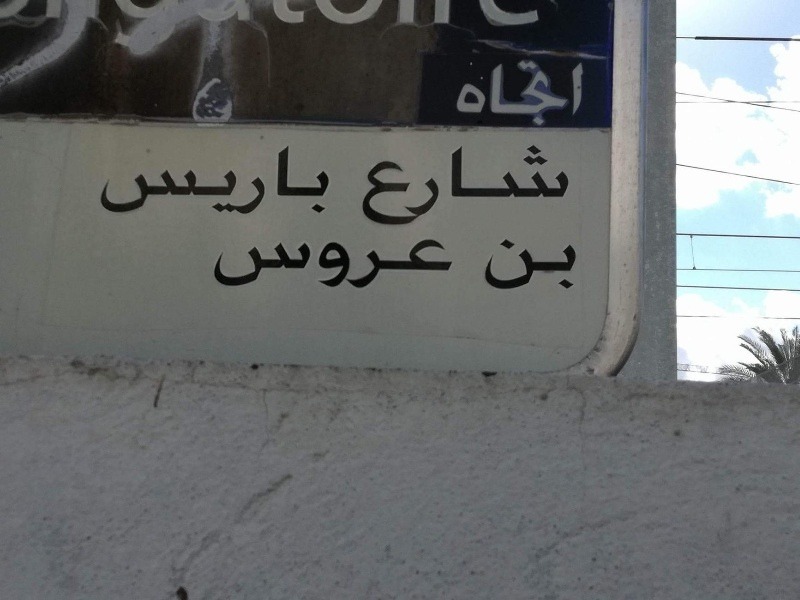text: (369, 144, 384, 232), (385, 144, 400, 232), (401, 144, 416, 232), (417, 144, 432, 232), (433, 144, 448, 232), (449, 144, 464, 232), (465, 144, 480, 232), (481, 144, 496, 232), (497, 144, 512, 232), (513, 144, 528, 232), (529, 144, 544, 232), (545, 144, 560, 232), (113, 134, 128, 214), (129, 134, 144, 214), (145, 134, 160, 214), (161, 134, 176, 214), (177, 134, 192, 214), (193, 134, 208, 214), (209, 134, 224, 214), (225, 134, 240, 214), (241, 134, 256, 214), (257, 134, 272, 214), (273, 134, 288, 214), (289, 134, 304, 214), (305, 134, 320, 214), (465, 55, 480, 130), (481, 55, 496, 130), (497, 55, 512, 130), (513, 55, 528, 130), (529, 55, 544, 130), (545, 55, 560, 130), (561, 55, 576, 130), (577, 55, 588, 130), (225, 235, 240, 289), (241, 235, 256, 289), (257, 235, 272, 289), (273, 235, 288, 289), (289, 235, 304, 289), (305, 235, 320, 289), (321, 235, 336, 289), (337, 235, 352, 289), (353, 235, 368, 289), (369, 235, 384, 289), (385, 235, 400, 289), (401, 235, 416, 289), (417, 235, 432, 289), (433, 235, 448, 289), (102, 134, 112, 214), (497, 239, 512, 292), (513, 239, 528, 292), (529, 239, 544, 292), (545, 239, 560, 292), (561, 239, 576, 292), (210, 235, 224, 289), (321, 134, 330, 214), (561, 144, 569, 232), (455, 55, 464, 130), (486, 239, 496, 292), (17, 1, 32, 34), (33, 1, 48, 34), (49, 1, 64, 34), (65, 1, 80, 34), (81, 1, 96, 34), (97, 1, 112, 34), (113, 1, 128, 34), (129, 1, 144, 34), (145, 1, 160, 34), (161, 1, 176, 34), (177, 1, 192, 34), (193, 1, 208, 34), (209, 1, 224, 34), (225, 1, 240, 34), (241, 1, 256, 34), (257, 1, 272, 34), (273, 1, 288, 34), (289, 1, 304, 34), (305, 1, 320, 34), (321, 1, 336, 34), (337, 1, 352, 34), (353, 1, 368, 34), (369, 1, 384, 34), (385, 1, 400, 34), (401, 1, 416, 34), (417, 1, 432, 34), (433, 1, 448, 34), (449, 1, 464, 34), (465, 1, 480, 34), (481, 1, 496, 34), (497, 1, 512, 34), (513, 1, 528, 34), (529, 1, 544, 34), (363, 144, 368, 232), (449, 235, 454, 289), (577, 239, 580, 292), (14, 1, 16, 34), (545, 1, 546, 34)
